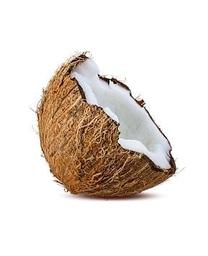coconut: (37, 53, 176, 198)
